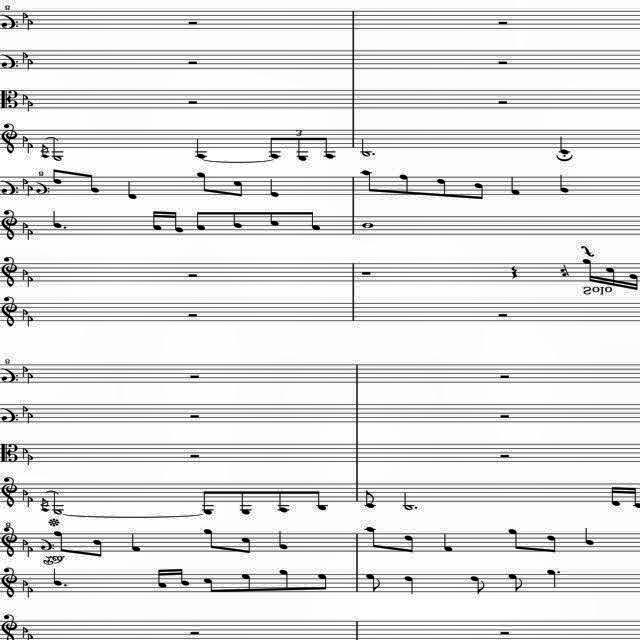Bass-clef: (0, 207, 16, 244), (0, 121, 16, 154), (0, 253, 16, 286), (0, 525, 16, 557), (0, 296, 16, 328), (2, 478, 18, 508), (3, 566, 17, 598), (0, 614, 16, 640)
Bemol: (18, 404, 30, 420), (24, 276, 36, 288), (23, 59, 34, 71), (20, 536, 28, 552), (27, 410, 35, 426), (20, 268, 28, 284), (26, 586, 34, 600), (20, 365, 28, 379), (20, 11, 28, 25), (26, 185, 34, 198), (20, 51, 28, 64), (19, 179, 29, 189), (20, 626, 28, 638), (20, 490, 28, 502), (20, 310, 28, 322), (28, 316, 36, 328), (26, 228, 34, 240), (21, 94, 29, 106), (26, 100, 34, 112), (26, 18, 34, 30), (26, 497, 34, 508), (21, 579, 27, 593), (26, 373, 34, 383), (26, 144, 34, 154), (25, 546, 31, 558), (27, 454, 33, 466), (21, 222, 27, 234), (22, 134, 26, 150), (22, 449, 26, 463), (26, 634, 34, 640)
Eighth-note: (499, 522, 525, 552), (390, 171, 418, 197), (198, 524, 222, 552), (270, 568, 294, 592), (292, 135, 312, 161), (318, 135, 338, 161), (82, 536, 105, 558), (358, 170, 378, 194), (266, 136, 286, 160), (222, 178, 245, 198), (466, 180, 489, 200), (364, 571, 384, 593), (468, 573, 488, 595), (362, 487, 382, 509), (85, 170, 103, 194), (503, 571, 522, 593), (201, 491, 217, 517), (364, 526, 381, 550), (193, 210, 210, 234), (194, 172, 213, 192), (276, 488, 290, 514), (309, 209, 323, 235), (234, 574, 252, 594), (311, 572, 329, 592), (234, 536, 254, 554), (399, 534, 417, 554), (430, 178, 448, 198), (314, 489, 330, 511), (240, 490, 254, 514), (228, 210, 244, 230), (53, 530, 67, 552), (202, 576, 218, 594), (544, 535, 560, 553), (48, 166, 64, 184), (266, 210, 282, 227)
Full-note: (362, 223, 374, 229)
Half-note: (398, 490, 414, 512), (52, 138, 64, 162), (52, 493, 64, 515), (360, 136, 372, 158)
Quarter-note: (190, 138, 210, 162), (509, 172, 526, 196), (556, 134, 576, 154), (130, 530, 146, 554), (558, 172, 574, 195), (402, 572, 418, 594), (276, 530, 292, 552), (438, 534, 454, 554), (268, 176, 282, 198), (125, 180, 139, 200), (49, 208, 61, 230), (544, 568, 556, 588), (584, 527, 596, 547), (50, 569, 62, 587)
Quarter-rest: (508, 264, 518, 280)
Sixteenth-note: (146, 209, 166, 231), (579, 258, 595, 284), (174, 566, 192, 588), (628, 484, 640, 512), (605, 263, 619, 285), (170, 211, 184, 233), (610, 484, 622, 508), (625, 272, 639, 292), (157, 567, 167, 589)
